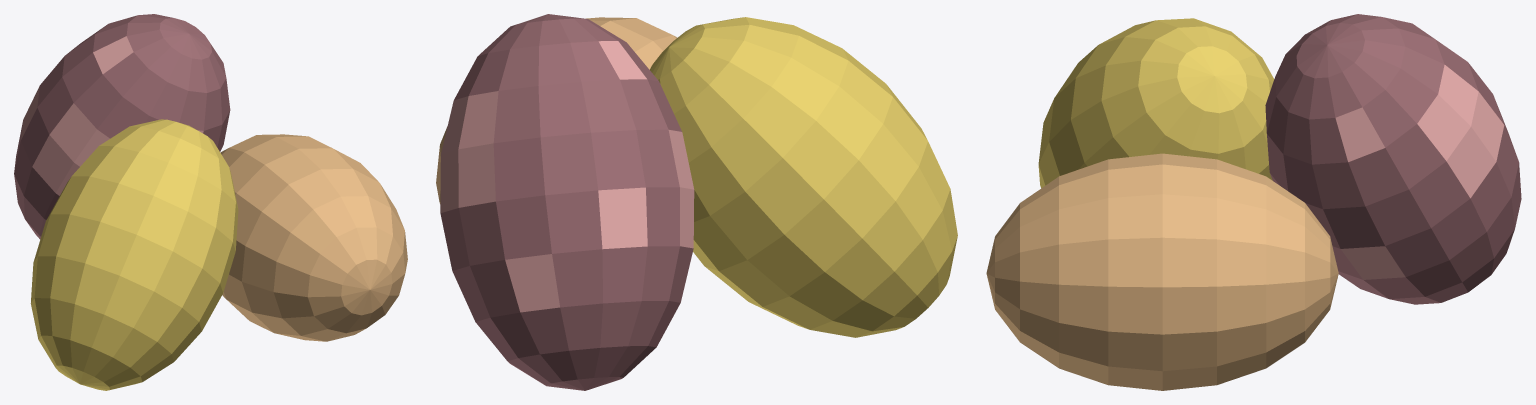
The model's file is T_3Eggs.fbx.
3 views of the same model, side by side, from view 1: azimuth 30°, elevation 25°; view 2: azimuth 150°, elevation 25°; view 3: azimuth 270°, elevation 25° (orthographic). The views are drawn at different scales.
Visible parts, largest first — view 1: Sphere.003, Sphere.001, Sphere.002; view 2: Sphere.002, Sphere.003, Sphere.001; view 3: Sphere.001, Sphere.002, Sphere.003.
Part boxes in pixels (x1,y1,x2,y2): Sphere.003: (30, 119, 238, 390); Sphere.001: (220, 134, 407, 341); Sphere.002: (14, 14, 230, 239); Sphere.002: (440, 14, 694, 390); Sphere.003: (650, 17, 957, 337); Sphere.001: (436, 17, 677, 203); Sphere.001: (986, 153, 1338, 390); Sphere.002: (1265, 14, 1521, 304); Sphere.003: (1038, 18, 1274, 188).
Bounding box in the file's own units: 137 × 99.12 × 149.
